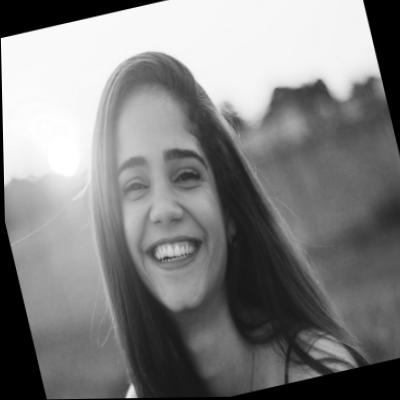happy: (90, 72, 240, 315)
